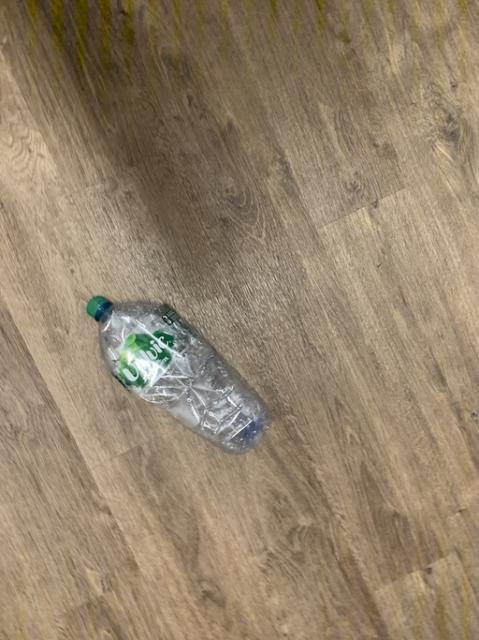plastic: (86, 295, 269, 452)
